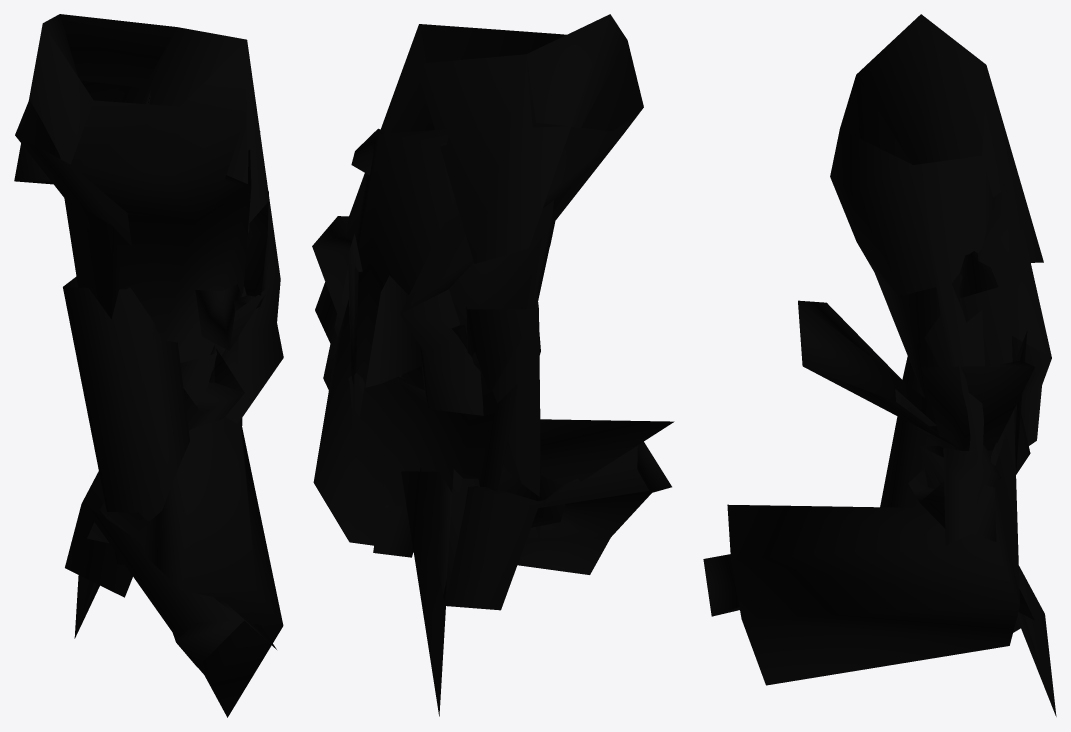
3 renders of one model, left to right at view 1: azimuth 30°, elevation 25°; view 2: azimuth 150°, elevation 25°; view 3: azimuth 270°, elevation 25°, orthographic. The views are drawn at different scales.
Parts seen in each view (by area): view 1: T1L4M003_6; view 2: T1L4M003_6; view 3: T1L4M003_6.
Boxes of the visible parts, x1,y1,x2,y2 form: T1L4M003_6: (14,14,283,717); T1L4M003_6: (312,14,674,716); T1L4M003_6: (703,14,1056,716).
Size of the model in its own units: 0.8291 by 1.89 by 0.9196.
